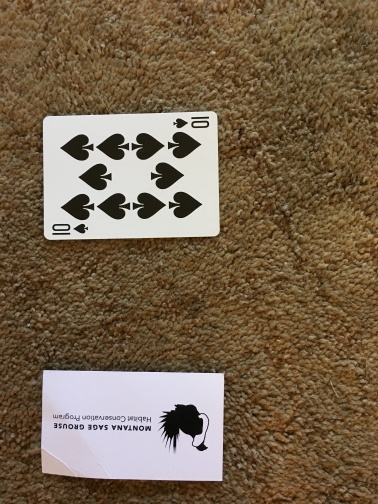ten: (40, 108, 222, 241)
